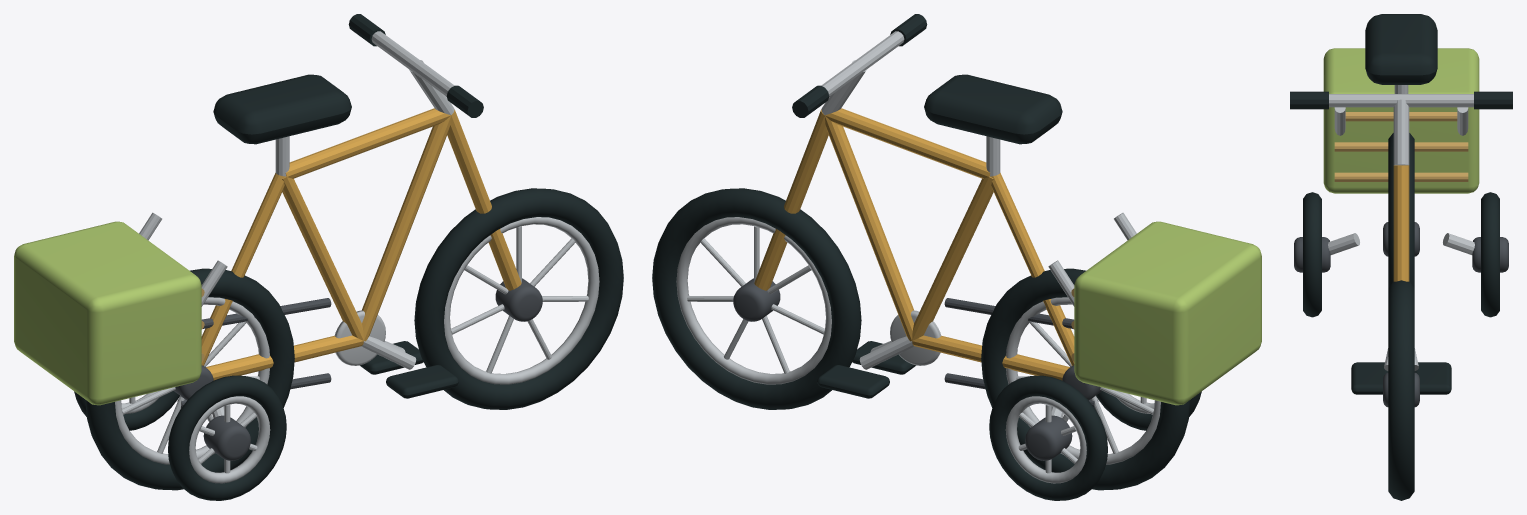
File: bike_kids_d.glb
The picture shows the model from 3 angles, left to right: view 1: azimuth 30°, elevation 25°; view 2: azimuth 150°, elevation 25°; view 3: azimuth 270°, elevation 25°; orthographic projection. The views are drawn at different scales.
Visible parts, largest first — view 1: Rear basket, Tint, Front wheel tyre.007, Rear wheel tyre.007, Saddle.007, Trike wheel tyre, Front wheel rim.007, Trike wheel rim, Rear wheel rim.007, Pedal.012, Trike wheel hub, Handlebar.006 (+7 smaller); view 2: Rear basket, Tint, Front wheel tyre.007, Rear wheel tyre.007, Saddle.007, Trike wheel tyre.001, Front wheel rim.007, Trike wheel rim.001, Rear wheel rim.007, Pedal.013, Trike wheel hub.001, Handlebar.006 (+7 smaller); view 3: Rear basket, Front wheel tyre.007, Saddle.007, Trike wheel tyre, Trike wheel tyre.001, Tint, Handlebar.006, Rear wheel tyre.007, Basket slat.007, Basket slat.006, Stem.007, Pedal.012 (+12 smaller).
Part boxes in pixels (bbox=[...]): Rear basket: bbox=[14, 221, 201, 405]; Tint: bbox=[201, 108, 521, 380]; Front wheel tyre.007: bbox=[414, 188, 623, 409]; Rear wheel tyre.007: bbox=[85, 268, 294, 490]; Saddle.007: bbox=[213, 74, 351, 144]; Trike wheel tyre: bbox=[168, 375, 286, 500]; Front wheel rim.007: bbox=[444, 217, 599, 384]; Trike wheel rim: bbox=[189, 396, 270, 483]; Rear wheel rim.007: bbox=[115, 297, 269, 464]; Pedal.012: bbox=[386, 365, 458, 398]; Trike wheel hub: bbox=[203, 415, 250, 460]; Handlebar.006: bbox=[371, 31, 454, 96]; Rear basket: bbox=[1074, 221, 1261, 405]; Tint: bbox=[754, 108, 1074, 380]; Front wheel tyre.007: bbox=[652, 188, 861, 409]; Rear wheel tyre.007: bbox=[981, 268, 1190, 490]; Saddle.007: bbox=[924, 74, 1062, 144]; Trike wheel tyre.001: bbox=[989, 375, 1107, 500]; Front wheel rim.007: bbox=[676, 217, 831, 384]; Trike wheel rim.001: bbox=[1005, 396, 1086, 483]; Rear wheel rim.007: bbox=[1006, 297, 1160, 464]; Pedal.013: bbox=[817, 365, 889, 398]; Trike wheel hub.001: bbox=[1025, 415, 1072, 460]; Handlebar.006: bbox=[821, 31, 904, 96]; Rear basket: bbox=[1323, 48, 1479, 193]; Front wheel tyre.007: bbox=[1388, 280, 1414, 500]; Saddle.007: bbox=[1365, 14, 1437, 84]; Trike wheel tyre: bbox=[1303, 192, 1321, 317]; Trike wheel tyre.001: bbox=[1481, 192, 1499, 317]; Tint: bbox=[1393, 165, 1409, 281]; Handlebar.006: bbox=[1329, 94, 1473, 107]; Rear wheel tyre.007: bbox=[1388, 133, 1414, 287]; Basket slat.007: bbox=[1334, 142, 1468, 151]; Basket slat.006: bbox=[1334, 172, 1468, 181]; Stem.007: bbox=[1393, 99, 1409, 165]; Pedal.012: bbox=[1351, 362, 1388, 394].
Size of the model in its own units: 1.11 by 0.696 by 0.4.
